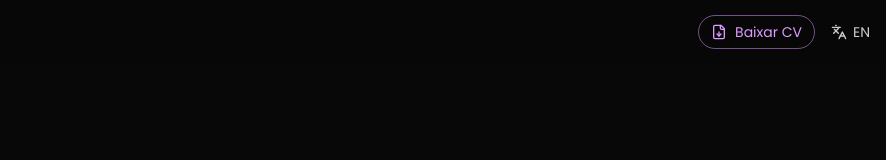
Test: Header: idioma › mostra o CV em português para pt-BR e troca para inglês em um clique
The width and height of the screenshot is (886, 160).
What coordinates should you click on to do the following:
click the button with aria-label "Mudar idioma"
I would click on:
 (850, 32)
Its box is 831,22 -> 870,42.
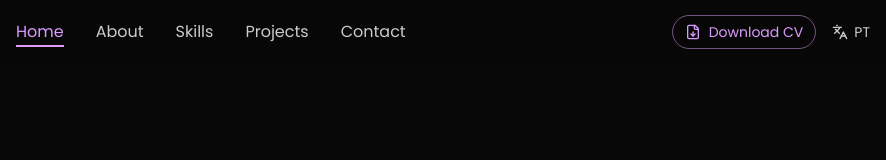
Result: the link "Download CV" has attribute href="/files/mateus-wensch-cv-en.pdf" at 672,15 -> 816,49
